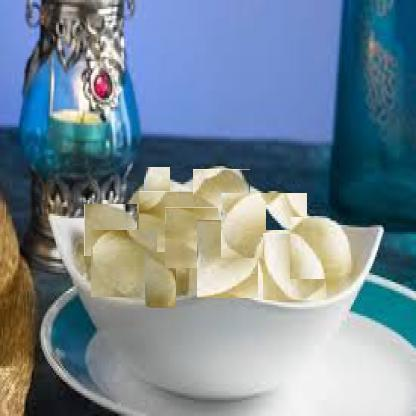rasgulla: (192, 224, 262, 294), (139, 191, 206, 258), (91, 230, 158, 296), (262, 233, 326, 300), (221, 193, 286, 258), (290, 217, 352, 279), (163, 209, 220, 267), (194, 168, 249, 223), (85, 204, 137, 257), (138, 258, 182, 302), (137, 173, 177, 213), (265, 192, 307, 230)
